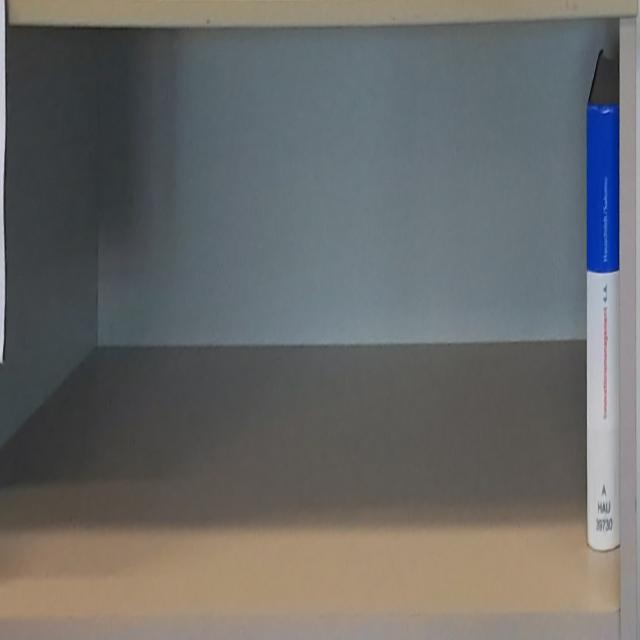Book Spine: (587, 106, 620, 554)
